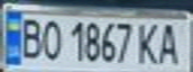1: (63, 18, 84, 61)
6: (100, 19, 118, 64)
7: (115, 19, 136, 64)
8: (81, 19, 103, 63)
A: (154, 20, 187, 66)
B: (15, 15, 45, 60)
K: (133, 19, 163, 65)
O: (39, 17, 63, 61)
